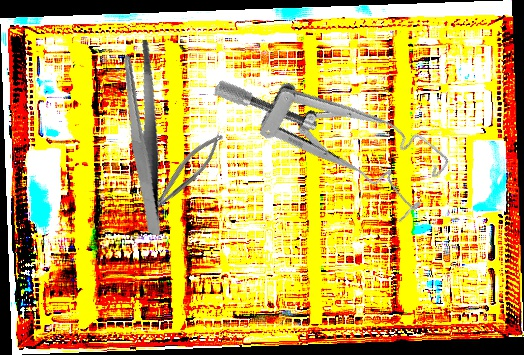Dressing Forceps: (94, 37, 194, 236)
Needle Holder: (136, 127, 231, 224)
Speculum: (210, 15, 455, 241)
